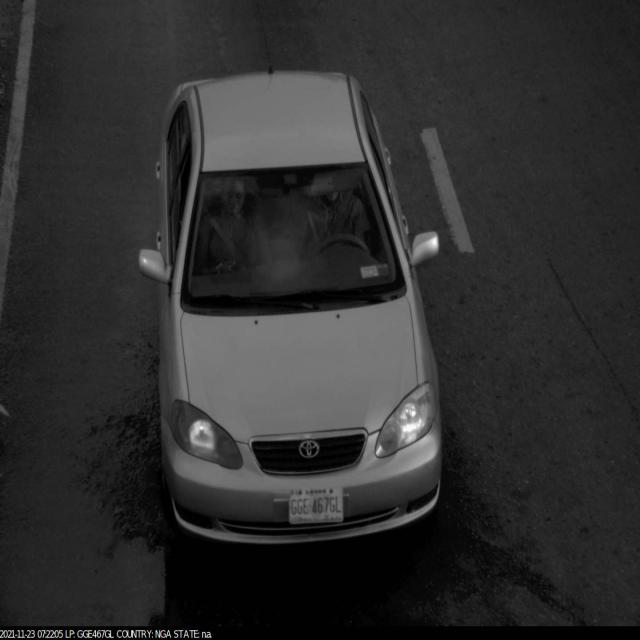windshield: (179, 156, 408, 324)
